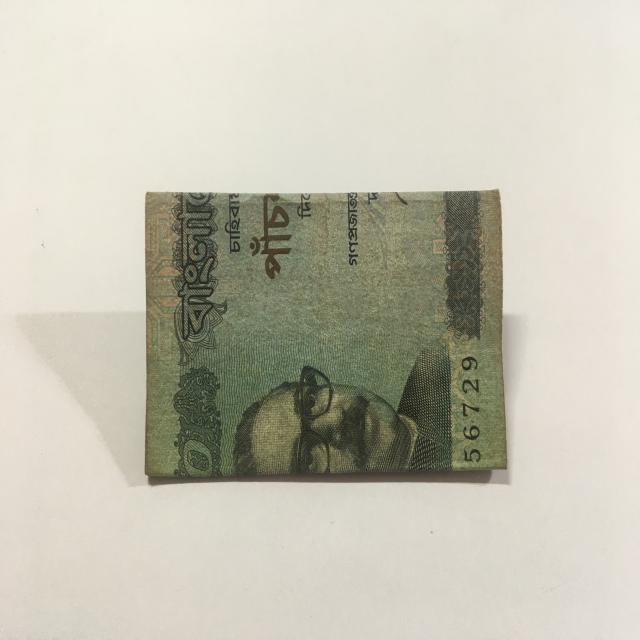Taka: (139, 182, 509, 484)
